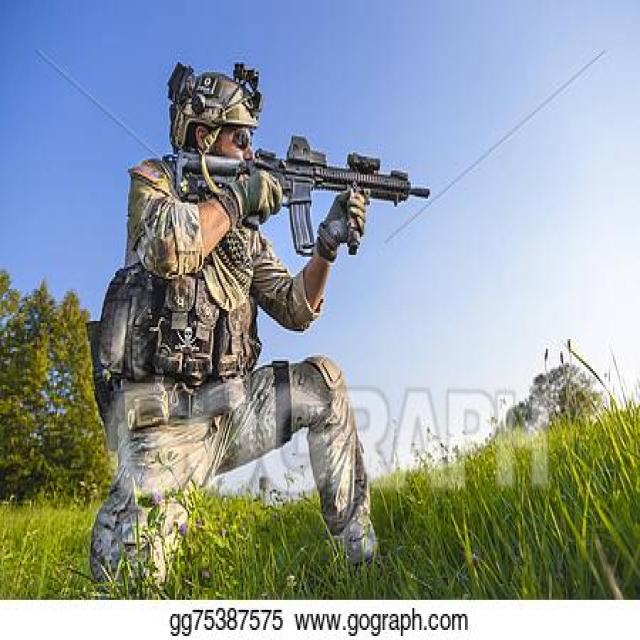soldier: (101, 56, 415, 571)
